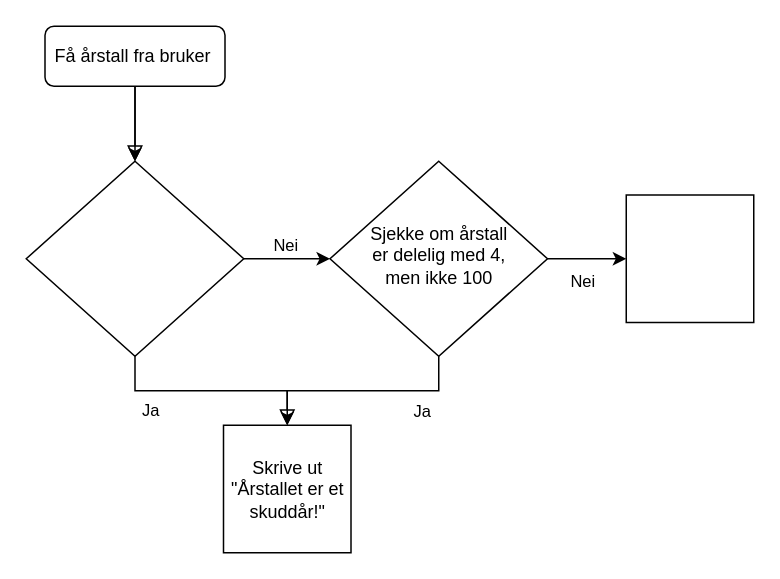
This 780x579 diagram has some shape labels left out. Here are the shapes that lost their labels. From the top down, the centre of each, then its label:
point (134, 258): Sjekke om årstall er delelig med 400
point (689, 258): Skrive ut "Årstallet er ikke et skuddår."
